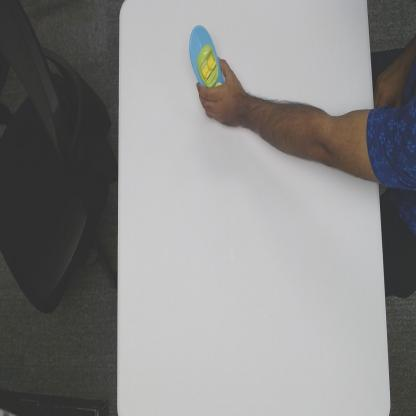Arm: (244, 92, 378, 184)
Boat: (188, 23, 224, 88)
Hand: (196, 56, 244, 126)
